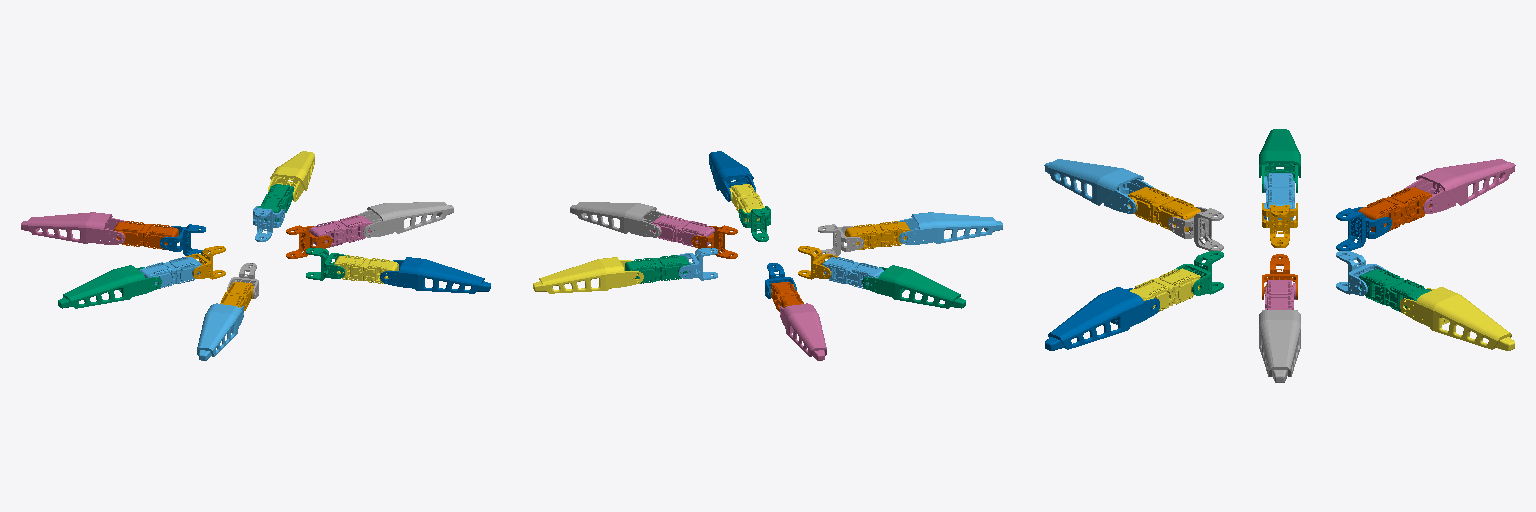
URDF robot description (rozh_model):
<?xml version="1.0" encoding="utf-8" ?>
<!-- =================================================================================== -->
<!-- |    This document was autogenerated by xacro from src/urdf_rozh_v1/urdf/rozh_model.xacro | -->
<!-- |    EDITING THIS FILE BY HAND IS NOT RECOMMENDED                                 | -->
<!-- =================================================================================== -->
<robot name="rozh_model">
    <link name="prosoma_link">
        <visual>
            <geometry>
                <mesh filename="package://urdf_rozh_v1/meshes/prosoma_fin.stl" />
            </geometry>
        </visual>
        <collision>
            <geometry>
                <mesh filename="package://urdf_rozh_v1/meshes/prosoma_collision.stl" />
            </geometry>
        </collision>
        
	    <inertial>
            <mass value="0.533" />
            <inertia ixx="0.001985" iyy="0.001487" izz="0.003307" ixy="0.0" ixz="0.0" iyz="0.0" />
        </inertial>
    </link>

    <link name="link1_p1">
        <visual>
            <geometry>
                <mesh filename="package://urdf_rozh_v1/meshes/link1_fin.stl" />
            </geometry>
        </visual>
        <collision>
            <geometry>
                <mesh filename="package://urdf_rozh_v1/meshes/link1_fin.stl" />
            </geometry>
        </collision>
        
	    <inertial>
            <mass value="0.015" />
            <inertia ixx="0.000005905" iyy="0.00001703" izz="0.00001703" ixy="0.0" ixz="0.0" iyz="0.0" />
        </inertial>
    </link>

    <link name="link2_p1">
        <visual>
            <geometry>
                <mesh filename="package://urdf_rozh_v1/meshes/link2_fin.stl" />
            </geometry>
            <!-->material name="gray"/<!-->
        </visual>
        <collision>
            <geometry>
                <mesh filename="package://urdf_rozh_v1/meshes/link2_collision.stl" />
            </geometry>
        </collision>
		<inertial>
            <mass value="0.112" />
            <inertia ixx="0.00001853" iyy="0.000306" izz="0.0003123" ixy="0.0" ixz="0.0" iyz="0.0" />
        </inertial>
    </link>

    <link name="link3_p1">
        <visual>
            <geometry>
                <mesh filename="package://urdf_rozh_v1/meshes/link3_fin.stl" />
            </geometry>
            <!-->material name="gray"/<!-->
        </visual>
        <collision>
            <geometry>
                <mesh filename="package://urdf_rozh_v1/meshes/link3_fin.stl" />
            </geometry>
        </collision>
		<inertial>
            <mass value="0.070" />
            <inertia ixx="0.000041" iyy="0.000064" izz="0.000065" ixy="0.0" ixz="0.00001" iyz="0.0" />
        </inertial>
    </link>

    <joint name="joint1_p1" type="continuous">
        <parent link="prosoma_link" />
        <child link="link1_p1" />
        <origin rpy="0 0 0.7854" xyz="6 8.5 0.06" />
        <axis xyz="0 0 1" />
    </joint>
    <joint name="joint2_p1" type="continuous">
        <parent link="link1_p1" />
        <child link="link2_p1" />
        <origin rpy="0 0 0" xyz="5.3 -0.05 0" />
        <axis xyz="0 1 0" />
    </joint>
    <joint name="joint3_p1" type="continuous">
        <parent link="link2_p1" />
        <child link="link3_p1" />
        <origin rpy="0 0 3.14159265359" xyz="8.3 0.05 0" />
        <axis xyz="0 1 0" />
    </joint>

    <link name="link1_p2">
        <visual>
            <geometry>
                <mesh filename="package://urdf_rozh_v1/meshes/link1_fin.stl" />
            </geometry>
            <!-->material name="gray"/<!-->
        </visual>
        <collision>
            <geometry>
                <mesh filename="package://urdf_rozh_v1/meshes/link1_fin.stl" />
            </geometry>
        </collision>
	    <inertial>
            <mass value="0.015" />
            <inertia ixx="0.000005905" iyy="0.00001703" izz="0.00001703" ixy="0.0" ixz="0.0" iyz="0.0" />
        </inertial>
    </link>


    <link name="link2_p2">
        <visual>
            <geometry>
                <mesh filename="package://urdf_rozh_v1/meshes/link2_fin.stl" />
            </geometry>
            <!-->material name="gray"/<!-->
        </visual>
        <collision>
            <geometry>
                <mesh filename="package://urdf_rozh_v1/meshes/link2_collision.stl" />
            </geometry>
        </collision>
		<inertial>
            <mass value="0.112" />
            <inertia ixx="0.00001853" iyy="0.000306" izz="0.0003123" ixy="0.0" ixz="0.0" iyz="0.0" />
        </inertial>
    </link>

    <link name="link3_p2">
        <visual>
            <geometry>
                <mesh filename="package://urdf_rozh_v1/meshes/link3_fin.stl" />
            </geometry>
            <!-->material name="gray"/<!-->
        </visual>
        <collision>
            <geometry>
                <mesh filename="package://urdf_rozh_v1/meshes/link3_fin.stl" />
            </geometry>
        </collision>
		<inertial>
            <mass value="0.07" />
            <inertia ixx="0.000041" iyy="0.000064" izz="0.000065" ixy="0.0" ixz="0.00001" iyz="0.0" />
        </inertial>
    </link>

    <joint name="joint1_p2" type="continuous">
        <parent link="prosoma_link" />
        <child link="link1_p2" />
        <origin rpy="0 0 2.35619449019" xyz="-6 8.5 0.06" />
        <axis xyz="0 0 1" />
    </joint>
    <joint name="joint2_p2" type="continuous">
        <parent link="link1_p2" />
        <child link="link2_p2" />
        <origin rpy="0 0 0" xyz="5.3 -0.05 0" />
        <axis xyz="0 1 0" />
    </joint>
    <joint name="joint3_p2" type="continuous">
        <parent link="link2_p2" />
        <child link="link3_p2" />
        <origin rpy="0 0 3.14159265359" xyz="8.3 0.05 0" />
        <axis xyz="0 1 0" />
    </joint>


    <link name="link1_p3">
        <visual>
            <geometry>
                <mesh filename="package://urdf_rozh_v1/meshes/link1_fin.stl" />
            </geometry>
            <!-->material name="gray"/<!-->
        </visual>
        <collision>
            <geometry>
                <mesh filename="package://urdf_rozh_v1/meshes/link1_fin.stl" />
            </geometry>
        </collision>
       
	    <inertial>
            <mass value="0.015" />
            <inertia ixx="0.000005905" iyy="0.00001703" izz="0.00001703" ixy="0.0" ixz="0.0" iyz="0.0" />
        </inertial>
	</link>

    <link name="link2_p3">
        <visual>
            <geometry>
                <mesh filename="package://urdf_rozh_v1/meshes/link2_fin.stl" />
            </geometry>
            <!-->material name="gray"/<!-->
        </visual>
        <collision>
            <geometry>
                <mesh filename="package://urdf_rozh_v1/meshes/link2_collision.stl" />
            </geometry>
        </collision>
		<inertial>
            <mass value="0.112" />
            <inertia ixx="0.00001853" iyy="0.000306" izz="0.0003123" ixy="0.0" ixz="0.0" iyz="0.0" />
        </inertial>
    </link>

    <link name="link3_p3">
        <visual>
            <geometry>
                <mesh filename="package://urdf_rozh_v1/meshes/link3_fin.stl" />
            </geometry>
            <!-->material name="gray"/<!-->
        </visual>
        <collision>
            <geometry>
                <mesh filename="package://urdf_rozh_v1/meshes/link3_fin.stl" />
            </geometry>
        </collision>
		<inertial>
            <mass value="0.07" />
            <inertia ixx="0.000041" iyy="0.000064" izz="0.000065" ixy="0.0" ixz="0.00001" iyz="0.0" />
        </inertial>
    </link>

    <joint name="joint1_p3" type="continuous">
        <parent link="prosoma_link" />
        <child link="link1_p3" />
        <origin rpy="0 0 -2.35619449019" xyz="-6 -8.5 0.06" />
        <axis xyz="0 0 1" />
    </joint>
    <joint name="joint2_p3" type="continuous">
        <parent link="link1_p3" />
        <child link="link2_p3" />
        <origin rpy="0 0 0" xyz="5.3 -0.05 0" />
        <axis xyz="0 1 0" />
    </joint>
    <joint name="joint3_p3" type="continuous">
        <parent link="link2_p3" />
        <child link="link3_p3" />
        <origin rpy="0 0 3.14159265359" xyz="8.3 0.05 0" />
        <axis xyz="0 1 0" />
    </joint>


    <link name="link1_p4">
        <visual>
            <geometry>
                <mesh filename="package://urdf_rozh_v1/meshes/link1_fin.stl" />
            </geometry>
            <!-->material name="gray"/<!-->
        </visual>
        <collision>
            <geometry>
                <mesh filename="package://urdf_rozh_v1/meshes/link1_fin.stl" />
            </geometry>
        </collision>

	    <inertial>
            <mass value="0.015" />
            <inertia ixx="0.000005905" iyy="0.00001703" izz="0.00001703" ixy="0.0" ixz="0.0" iyz="0.0" />
        </inertial>
    </link>

    <link name="link2_p4">
        <visual>
            <geometry>
                <mesh filename="package://urdf_rozh_v1/meshes/link2_fin.stl" />
            </geometry>
            <!-->material name="gray"/<!-->
        </visual>
        <collision>
            <geometry>
                <mesh filename="package://urdf_rozh_v1/meshes/link2_collision.stl" />
            </geometry>
        </collision>
		<inertial>
            <mass value="0.112" />
            <inertia ixx="0.00001853" iyy="0.000306" izz="0.0003123" ixy="0.0" ixz="0.0" iyz="0.0" />
        </inertial>
    </link>

    <link name="link3_p4">
        <visual>
            <geometry>
                <mesh filename="package://urdf_rozh_v1/meshes/link3_fin.stl" />
            </geometry>
            <!-->material name="gray"/<!-->
        </visual>
        <collision>
            <geometry>
                <mesh filename="package://urdf_rozh_v1/meshes/link3_fin.stl" />
            </geometry>
        </collision>
		<inertial>
            <mass value="0.07" />
            <inertia ixx="0.000041" iyy="0.000064" izz="0.000065" ixy="0.0" ixz="0.00001" iyz="0.0" />
        </inertial>
    </link>
    
    <joint name="joint1_p4" type="continuous">
        <parent link="prosoma_link" />
        <child link="link1_p4" />
        <origin rpy="0 0 -0.7854" xyz="6 -8.5 0.06" />
        <axis xyz="0 0 1" />
    </joint>
    <joint name="joint2_p4" type="continuous">
        <parent link="link1_p4" />
        <child link="link2_p4" />
        <origin rpy="0 0 0" xyz="5.3 -0.05 0" />
        <axis xyz="0 1 0" />
    </joint>
    <joint name="joint3_p4" type="continuous">
        <parent link="link2_p4" />
        <child link="link3_p4" />
        <origin rpy="0 0 3.14159265359" xyz="8.3 0.05 0" />
        <axis xyz="0 1 0" />
    </joint>

    <link name="link1_p5">
        <visual>
            <geometry>
                <mesh filename="package://urdf_rozh_v1/meshes/link1_fin.stl" />
            </geometry>
            <!-->material name="gray"/<!-->
        </visual>
        <collision>
            <geometry>
                <mesh filename="package://urdf_rozh_v1/meshes/link1_fin.stl" />
            </geometry>
        </collision>
        
	    <inertial>
            <mass value="0.015" />
            <inertia ixx="0.000005905" iyy="0.00001703" izz="0.00001703" ixy="0.0" ixz="0.0" iyz="0.0" />
        </inertial>
    </link>

    <link name="link2_p5">
        <visual>
            <geometry>
                <mesh filename="package://urdf_rozh_v1/meshes/link2_fin.stl" />
            </geometry>
            <!-->material name="gray"/<!-->
        </visual>
        <collision>
            <geometry>
                <mesh filename="package://urdf_rozh_v1/meshes/link2_collision.stl" />
            </geometry>
        </collision>
		<inertial>
            <mass value="0.112" />
            <inertia ixx="0.00001853" iyy="0.000306" izz="0.0003123" ixy="0.0" ixz="0.0" iyz="0.0" />
        </inertial>
    </link>

    <link name="link3_p5">
        <visual>
            <geometry>
                <mesh filename="package://urdf_rozh_v1/meshes/link3_fin.stl" />
            </geometry>
            <!-->material name="gray"/<!-->
        </visual>
        <collision>
            <geometry>
                <mesh filename="package://urdf_rozh_v1/meshes/link3_fin.stl" />
            </geometry>
        </collision>
		<inertial>
            <mass value="0.07" />
            <inertia ixx="0.000041" iyy="0.000064" izz="0.000065" ixy="0.0" ixz="0.00001" iyz="0.0" />
        </inertial>
    </link>
    
    <joint name="joint1_p5" type="continuous">
        <parent link="prosoma_link" />
        <child link="link1_p5" />
        <origin rpy="0 0 0" xyz="7.125 0 0.06" />
        <axis xyz="0 0 1" />
    </joint>
    <joint name="joint2_p5" type="continuous">
        <parent link="link1_p5" />
        <child link="link2_p5" />
        <origin rpy="0 0 0" xyz="5.3 -0.05 0" />
        <axis xyz="0 1 0" />
    </joint>
    <joint name="joint3_p5" type="continuous">
        <parent link="link2_p5" />
        <child link="link3_p5" />
        <origin rpy="0 0 3.14159265359" xyz="8.3 0.05 0" />
        <axis xyz="0 1 0" />
    </joint>


    <link name="link1_p6">
        <visual>
            <geometry>
                <mesh filename="package://urdf_rozh_v1/meshes/link1_fin.stl" />
            </geometry>
            <!-->material name="gray"/<!-->
        </visual>
        <collision>
            <geometry>
                <mesh filename="package://urdf_rozh_v1/meshes/link1_fin.stl" />
            </geometry>
        </collision>
        
	    <inertial>
            <mass value="0.015" />
            <inertia ixx="0.000005905" iyy="0.00001703" izz="0.00001703" ixy="0.0" ixz="0.0" iyz="0.0" />
        </inertial>
    </link>

    <link name="link2_p6">
        <visual>
            <geometry>
                <mesh filename="package://urdf_rozh_v1/meshes/link2_fin.stl" />
            </geometry>
            <!-->material name="gray"/<!-->
        </visual>
        <collision>
            <geometry>
                <mesh filename="package://urdf_rozh_v1/meshes/link2_collision.stl" />
            </geometry>
        </collision>
		<inertial>
            <mass value="0.112" />
            <inertia ixx="0.00001853" iyy="0.000306" izz="0.0003123" ixy="0.0" ixz="0.0" iyz="0.0" />
        </inertial>
    </link>

    <link name="link3_p6">
        <visual>
            <geometry>
                <mesh filename="package://urdf_rozh_v1/meshes/link3_fin.stl" />
            </geometry>
            <!-->material name="gray"/<!-->
        </visual>
        <collision>
            <geometry>
                <mesh filename="package://urdf_rozh_v1/meshes/link3_fin.stl" />
            </geometry>
        </collision>
		<inertial>
            <mass value="0.070" />
            <inertia ixx="0.000041" iyy="0.000064" izz="0.000065" ixy="0.0" ixz="0.00001" iyz="0.0" />
        </inertial>
    </link>

    <joint name="joint1_p6" type="continuous">
        <parent link="prosoma_link" />
        <child link="link1_p6" />
        <origin rpy="0 0 3.14159265359" xyz="-7.125 0 0.06" />
        <axis xyz="0 0 1" />
    </joint>
    <joint name="joint2_p6" type="continuous">
        <parent link="link1_p6" />
        <child link="link2_p6" />
        <origin rpy="0 0 0" xyz="5.3 -0.05 0" />
        <axis xyz="0 1 0" />
    </joint>
    <joint name="joint3_p6" type="continuous">
        <parent link="link2_p6" />
        <child link="link3_p6" />
        <origin rpy="0 0 3.14159265359" xyz="8.3 0.05 0" />
        <axis xyz="0 1 0" />
    </joint>
   

   <transmission name="trans_joint1_p1">
        <type>transmission_interface/SimpleTransmission</type>
        <joint name="joint1_p1">
            <hardwareInterface>hardware_interface/EffortJointInterface</hardwareInterface>
        </joint>
        <actuator name="joint1_p1_motor">
            <mechanicalReduction>1</mechanicalReduction>
        </actuator>
    </transmission>
    <transmission name="trans_joint2_p1">
        <type>transmission_interface/SimpleTransmission</type>
        <joint name="joint2_p1">
            <hardwareInterface>hardware_interface/EffortJointInterface</hardwareInterface>
        </joint>
        <actuator name="joint2_p1_motor">
            <mechanicalReduction>1</mechanicalReduction>
        </actuator>
    </transmission>
    <transmission name="trans_joint3_p1">
        <type>transmission_interface/SimpleTransmission</type>
        <joint name="joint3_p1">
            <hardwareInterface>hardware_interface/EffortJointInterface</hardwareInterface>
        </joint>
        <actuator name="joint3_p1_motor">
            <mechanicalReduction>1</mechanicalReduction>
        </actuator>
    </transmission>
    <transmission name="trans_joint1_p2">
        <type>transmission_interface/SimpleTransmission</type>
        <joint name="joint1_p2">
            <hardwareInterface>hardware_interface/EffortJointInterface</hardwareInterface>
        </joint>
        <actuator name="joint1_p2_motor">
            <mechanicalReduction>1</mechanicalReduction>
        </actuator>
    </transmission>
    <transmission name="trans_joint2_p2">
        <type>transmission_interface/SimpleTransmission</type>
        <joint name="joint2_p2">
            <hardwareInterface>hardware_interface/EffortJointInterface</hardwareInterface>
        </joint>
        <actuator name="joint2_p2_motor">
            <mechanicalReduction>1</mechanicalReduction>
        </actuator>
    </transmission>
    <transmission name="trans_joint3_p2">
        <type>transmission_interface/SimpleTransmission</type>
        <joint name="joint3_p2">
            <hardwareInterface>hardware_interface/EffortJointInterface</hardwareInterface>
        </joint>
        <actuator name="joint3_p2_motor">
            <mechanicalReduction>1</mechanicalReduction>
        </actuator>
    </transmission>
    <transmission name="trans_joint1_p3">
        <type>transmission_interface/SimpleTransmission</type>
        <joint name="joint1_p3">
            <hardwareInterface>hardware_interface/EffortJointInterface</hardwareInterface>
        </joint>
        <actuator name="joint1_p3_motor">
            <mechanicalReduction>1</mechanicalReduction>
        </actuator>
    </transmission>
    <transmission name="trans_joint2_p3">
        <type>transmission_interface/SimpleTransmission</type>
        <joint name="joint2_p3">
            <hardwareInterface>hardware_interface/EffortJointInterface</hardwareInterface>
        </joint>
        <actuator name="joint2_p3_motor">
            <mechanicalReduction>1</mechanicalReduction>
        </actuator>
    </transmission>
    <transmission name="trans_joint3_p3">
        <type>transmission_interface/SimpleTransmission</type>
        <joint name="joint3_p3">
            <hardwareInterface>hardware_interface/EffortJointInterface</hardwareInterface>
        </joint>
        <actuator name="joint3_p3_motor">
            <mechanicalReduction>1</mechanicalReduction>
        </actuator>
    </transmission>
    <transmission name="trans_joint1_p4">
        <type>transmission_interface/SimpleTransmission</type>
        <joint name="joint1_p4">
            <hardwareInterface>hardware_interface/EffortJointInterface</hardwareInterface>
        </joint>
        <actuator name="joint1_p4_motor">
            <mechanicalReduction>1</mechanicalReduction>
        </actuator>
    </transmission>
    <transmission name="trans_joint2_p4">
        <type>transmission_interface/SimpleTransmission</type>
        <joint name="joint2_p4">
            <hardwareInterface>hardware_interface/EffortJointInterface</hardwareInterface>
        </joint>
        <actuator name="joint2_p4_motor">
            <mechanicalReduction>1</mechanicalReduction>
        </actuator>
    </transmission>
    <transmission name="trans_joint3_p4">
        <type>transmission_interface/SimpleTransmission</type>
        <joint name="joint3_p4">
            <hardwareInterface>hardware_interface/EffortJointInterface</hardwareInterface>
        </joint>
        <actuator name="joint3_p4_motor">
            <mechanicalReduction>1</mechanicalReduction>
        </actuator>
    </transmission>
    <transmission name="trans_joint1_p5">
        <type>transmission_interface/SimpleTransmission</type>
        <joint name="joint1_p5">
            <hardwareInterface>hardware_interface/EffortJointInterface</hardwareInterface>
        </joint>
        <actuator name="joint1_p5_motor">
            <mechanicalReduction>1</mechanicalReduction>
        </actuator>
    </transmission>
    <transmission name="trans_joint2_p5">
        <type>transmission_interface/SimpleTransmission</type>
        <joint name="joint2_p5">
            <hardwareInterface>hardware_interface/EffortJointInterface</hardwareInterface>
        </joint>
        <actuator name="joint2_p5_motor">
            <mechanicalReduction>1</mechanicalReduction>
        </actuator>
    </transmission>
    <transmission name="trans_joint3_p5">
        <type>transmission_interface/SimpleTransmission</type>
        <joint name="joint3_p5">
            <hardwareInterface>hardware_interface/EffortJointInterface</hardwareInterface>
        </joint>
        <actuator name="joint3_p5_motor">
            <mechanicalReduction>1</mechanicalReduction>
        </actuator>
    </transmission>
    <transmission name="trans_joint1_p6">
        <type>transmission_interface/SimpleTransmission</type>
        <joint name="joint1_p6">
            <hardwareInterface>hardware_interface/EffortJointInterface</hardwareInterface>
        </joint>
        <actuator name="joint1_p6_motor">
            <mechanicalReduction>1</mechanicalReduction>
        </actuator>
    </transmission>
    <transmission name="trans_joint2_p6">
        <type>transmission_interface/SimpleTransmission</type>
        <joint name="joint2_p6">
            <hardwareInterface>hardware_interface/EffortJointInterface</hardwareInterface>
        </joint>
        <actuator name="joint2_p6_motor">
            <mechanicalReduction>1</mechanicalReduction>
        </actuator>
    </transmission>
    <transmission name="trans_joint3_p6">
        <type>transmission_interface/SimpleTransmission</type>
        <joint name="joint3_p6">
            <hardwareInterface>hardware_interface/EffortJointInterface</hardwareInterface>
        </joint>
        <actuator name="joint3_p6_motor">
            <mechanicalReduction>1</mechanicalReduction>
        </actuator>
    </transmission>

    <gazebo>
        <plugin name="gazebo_ros_control" filename="libgazebo_ros_control.so">
            <robotNamespace>/</robotNamespace>
        </plugin>
    </gazebo>
   

</robot>

--- Render facts (derived) ---
3 views of the same robot in one strip: view 1: azimuth 30°, elevation 25°; view 2: azimuth 150°, elevation 25°; view 3: azimuth 270°, elevation 25° (orthographic).
Robot: rozh_model — 19 links, 18 joints (18 continuous); root link prosoma_link; default pose: all joints at 0.
Visible links, largest first — view 1: link3_p4, link3_p6, link3_p2, link3_p5, link3_p3, link3_p1, link2_p2, link2_p4, link2_p5, link2_p6, link1_p2, link1_p4 (+5 smaller); view 2: link3_p1, link3_p6, link3_p3, link3_p5, link3_p2, link3_p4, link2_p1, link2_p3, link2_p5, link2_p6, link1_p1, link1_p3 (+5 smaller); view 3: link3_p4, link3_p1, link3_p2, link3_p3, link3_p5, link2_p3, link2_p2, link3_p6, link2_p1, link2_p4, link1_p3, link1_p2 (+6 smaller).
Boxes of the visible links, bbox=[...] form: link3_p4: bbox=[380, 257, 490, 293]; link3_p6: bbox=[58, 265, 161, 308]; link3_p2: bbox=[21, 212, 128, 244]; link3_p5: bbox=[357, 202, 453, 237]; link3_p3: bbox=[197, 303, 243, 360]; link3_p1: bbox=[268, 151, 314, 201]; link2_p2: bbox=[113, 221, 178, 249]; link2_p4: bbox=[334, 255, 398, 283]; link2_p5: bbox=[309, 215, 372, 247]; link2_p6: bbox=[139, 257, 201, 288]; link1_p2: bbox=[160, 224, 205, 255]; link1_p4: bbox=[306, 248, 348, 280]; link3_p1: bbox=[533, 257, 643, 293]; link3_p6: bbox=[862, 265, 965, 308]; link3_p3: bbox=[895, 212, 1002, 244]; link3_p5: bbox=[570, 202, 669, 237]; link3_p2: bbox=[780, 303, 826, 360]; link3_p4: bbox=[709, 151, 755, 201]; link2_p1: bbox=[625, 255, 689, 283]; link2_p3: bbox=[845, 221, 910, 249]; link2_p5: bbox=[651, 215, 714, 247]; link2_p6: bbox=[822, 257, 883, 289]; link1_p1: bbox=[675, 248, 717, 280]; link1_p3: bbox=[818, 224, 863, 255]; link3_p4: bbox=[1045, 287, 1159, 350]; link3_p1: bbox=[1400, 287, 1514, 350]; link3_p2: bbox=[1403, 159, 1515, 213]; link3_p3: bbox=[1044, 159, 1155, 213]; link3_p5: bbox=[1259, 310, 1300, 382]; link2_p3: bbox=[1128, 187, 1200, 231]; link2_p2: bbox=[1358, 187, 1431, 231]; link3_p6: bbox=[1259, 129, 1300, 192]; link2_p1: bbox=[1359, 269, 1430, 312]; link2_p4: bbox=[1130, 268, 1200, 311]; link1_p3: bbox=[1168, 207, 1223, 250]; link1_p2: bbox=[1336, 207, 1391, 250].
Size in the robot's own frame: 76.67 by 61.88 by 4.85 metres.
Meshes: 4 distinct files referenced, 18 mesh visuals loaded (3 binary STL); not drawn: 1 (reference not matched to a file when rendering).
